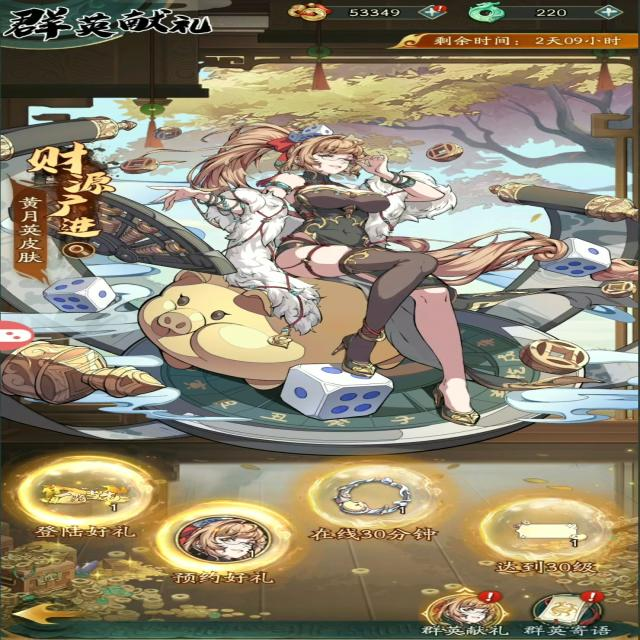hint-reddot: (578, 589, 606, 604), (477, 589, 504, 604), (434, 5, 446, 14)
operation-back: (0, 598, 120, 632)
operation-detail: (42, 238, 112, 266)
operation-qunyinggift1on: (8, 450, 165, 535)
operation-qunyinggift2on: (150, 496, 292, 574)
operation-qunyinggift3on: (306, 441, 442, 538)
operation-qunyinggift4on: (490, 495, 624, 573)
operation-qunyingjiyu: (522, 584, 621, 637)
operation-qunyingxianli: (411, 587, 513, 639)
